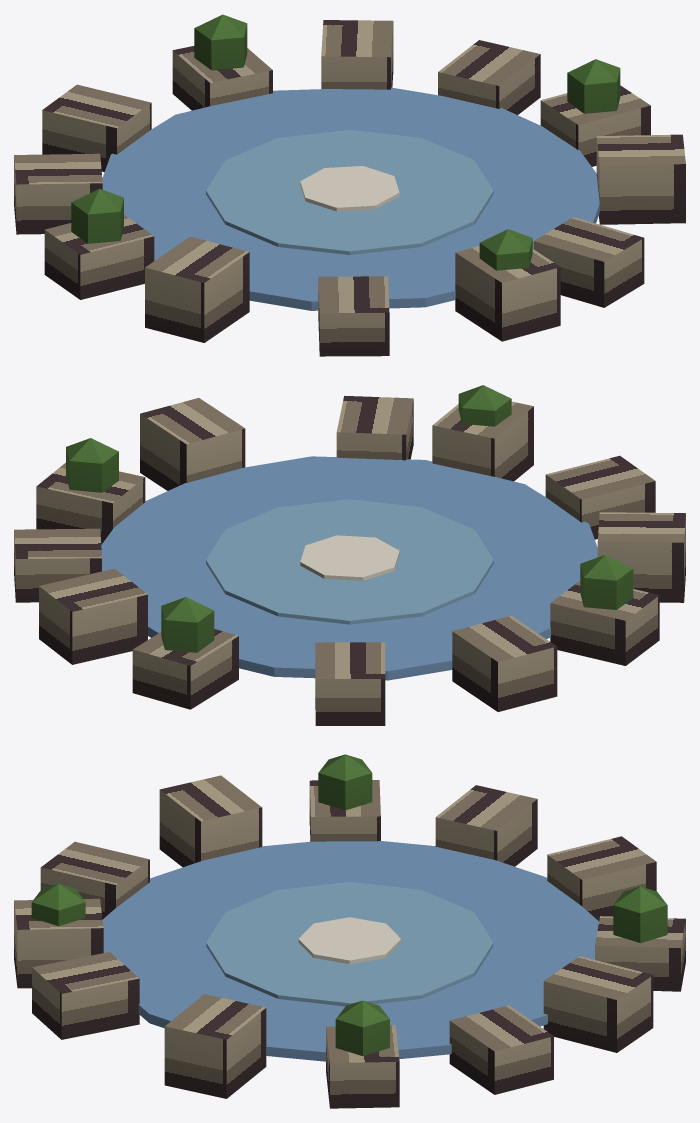
The model's file is spring_basin.glb.
3 views of the same model, one above another, from view 1: azimuth 30°, elevation 25°; view 2: azimuth 150°, elevation 25°; view 3: azimuth 270°, elevation 25° (orthographic).
Parts seen in each view (by area): view 1: spring_basin; view 2: spring_basin; view 3: spring_basin.
Part boxes in pixels (box(x1,y1,x2,y2)): spring_basin: box(14, 14, 685, 356); spring_basin: box(14, 385, 685, 725); spring_basin: box(14, 754, 685, 1108).
Bounding box in the file's own units: 3.27 × 0.48 × 3.27.
Materials: 3 (1 with a texture image).
